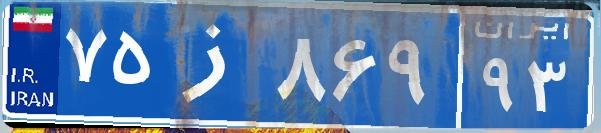3: (525, 38, 570, 115)
5: (110, 28, 158, 105)
6: (330, 28, 385, 110)
7: (57, 26, 110, 107)
8: (273, 28, 330, 110)
9: (385, 28, 445, 110), (475, 38, 525, 113)
ز: (158, 15, 273, 115)
